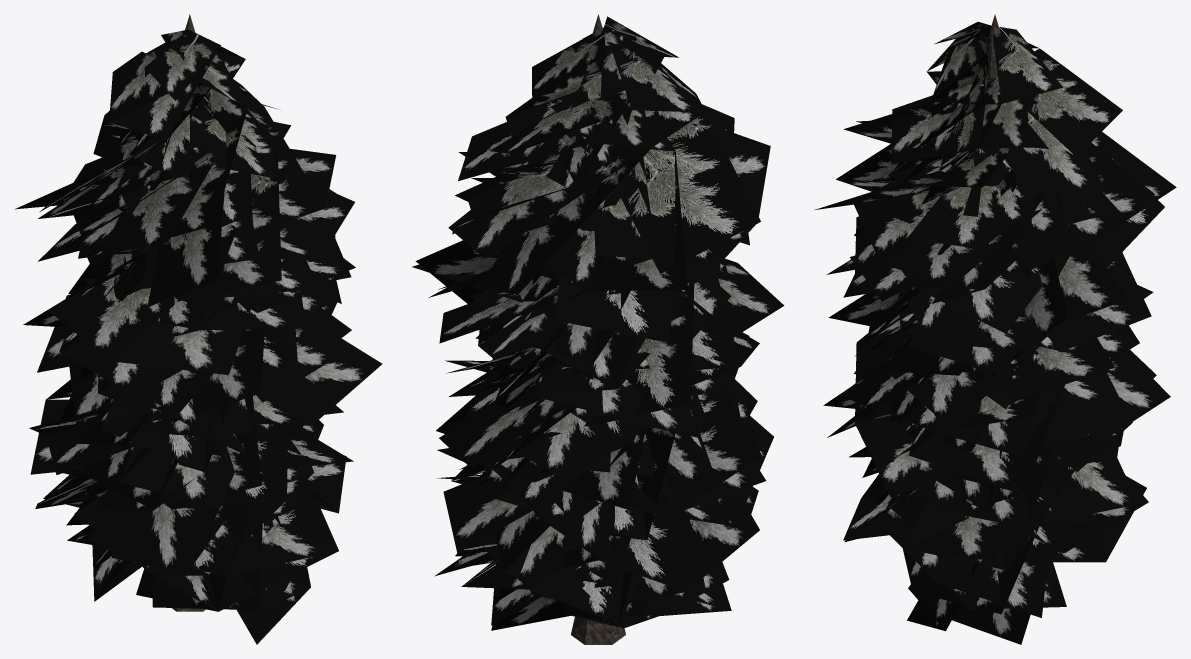
Rendered from Tree_Conifer_Snow.fbx.
The picture shows the model from 3 angles, left to right: view 1: azimuth 30°, elevation 25°; view 2: azimuth 150°, elevation 25°; view 3: azimuth 270°, elevation 25°; orthographic projection. The views are drawn at different scales.
Parts seen in each view (by area): view 1: SnowLeaf_LOD0; view 2: SnowLeaf_LOD0, SnowLeafTrunk_LOD0; view 3: SnowLeaf_LOD0.
Part boxes in pixels (<box>): SnowLeaf_LOD0: <box>15,29,382,644</box>; SnowLeaf_LOD0: <box>412,16,784,630</box>; SnowLeafTrunk_LOD0: <box>571,14,625,644</box>; SnowLeaf_LOD0: <box>815,21,1176,644</box>.
Size of what is drawn, in the model's own units: 3125 by 5684 by 3144.
Materials: 2 (2 with a texture image).
